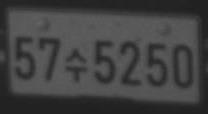0: (171, 43, 195, 87)
2: (118, 41, 142, 87)
5: (93, 40, 116, 85), (146, 42, 169, 87), (13, 36, 37, 79)
7: (38, 36, 61, 82)
수: (64, 47, 88, 83)
